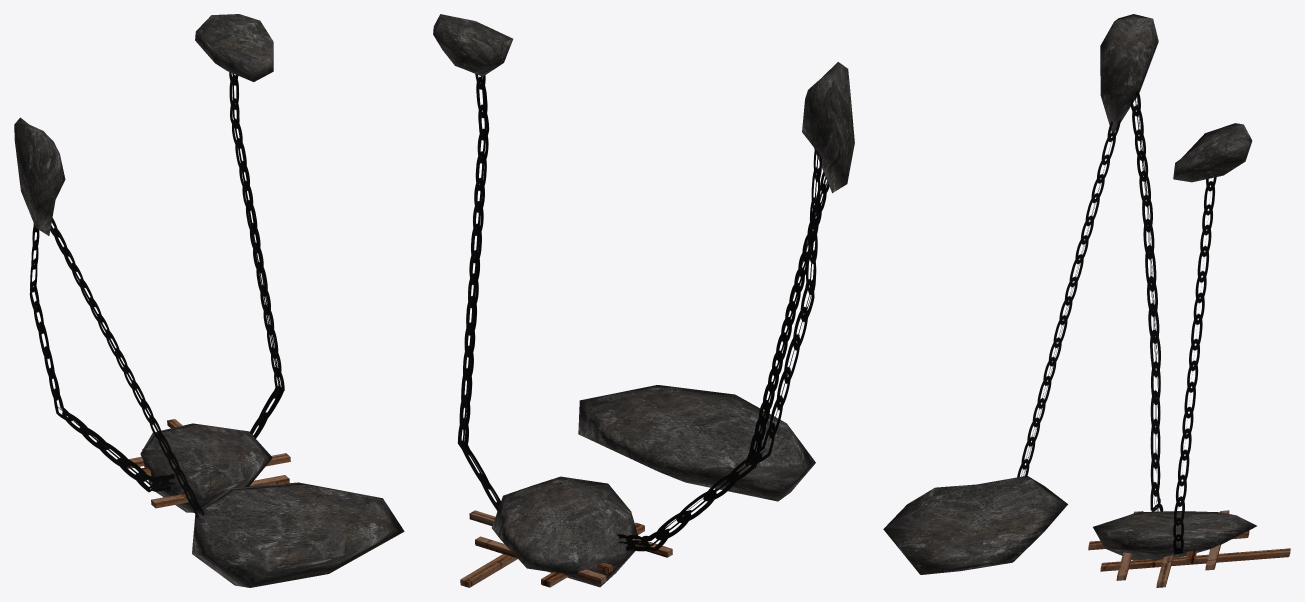
The model's file is Spooky_Rock_BridgeSection_Art.glb.
3 views of the same model, side by side, from view 1: azimuth 30°, elevation 25°; view 2: azimuth 150°, elevation 25°; view 3: azimuth 270°, elevation 25° (orthographic). The views are drawn at different scales.
Visible parts, largest first — view 1: Spooky_Rock_BridgeSection_Art; view 2: Spooky_Rock_BridgeSection_Art; view 3: Spooky_Rock_BridgeSection_Art.
Boxes of the visible parts, <box> form: Spooky_Rock_BridgeSection_Art: <box>14,14,404,587</box>; Spooky_Rock_BridgeSection_Art: <box>433,14,854,587</box>; Spooky_Rock_BridgeSection_Art: <box>883,14,1290,587</box>.
Size of the model in its own units: 6.97 by 10.39 by 8.21.
3 materials, 3 textured.
